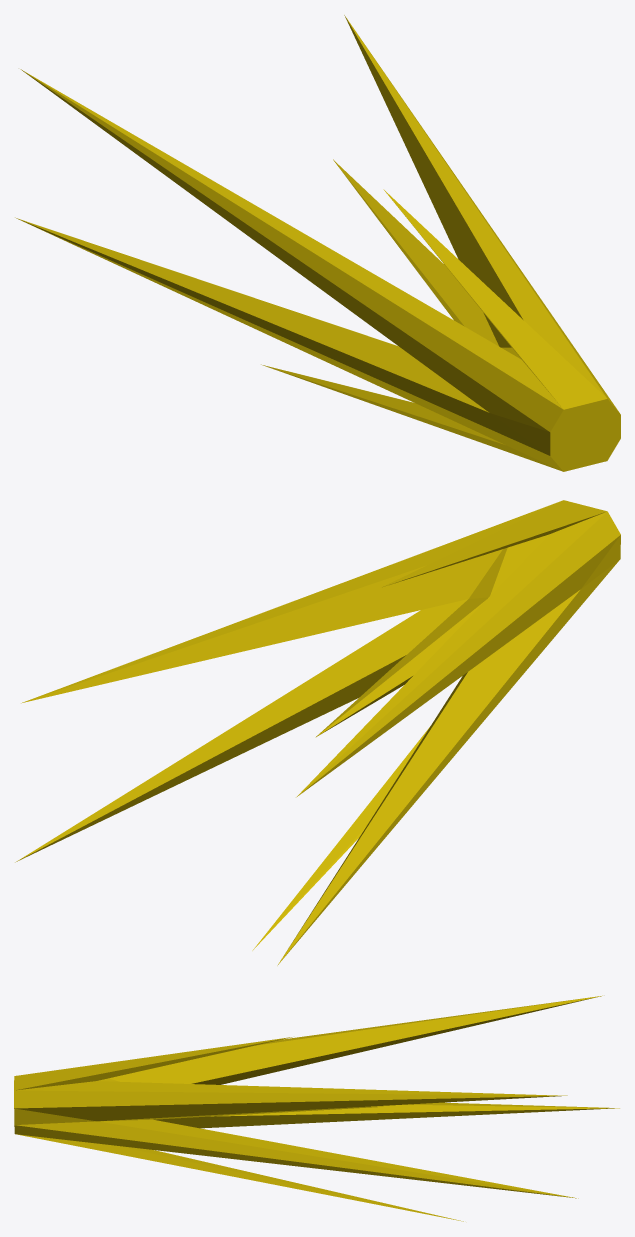
The model's file is muzzleFlash.fbx.
The picture shows the model from 3 angles, top to bottom: view 1: azimuth 30°, elevation 25°; view 2: azimuth 150°, elevation 25°; view 3: azimuth 270°, elevation 25°; orthographic projection. The views are drawn at different scales.
Visible parts, largest first — view 1: Icosphere; view 2: Icosphere; view 3: Icosphere.
Part boxes in pixels (<box>): Icosphere: <box>15,15,620,471</box>; Icosphere: <box>15,500,620,965</box>; Icosphere: <box>14,995,619,1221</box>.
Size of the model in its own units: 357 by 306 by 907.
